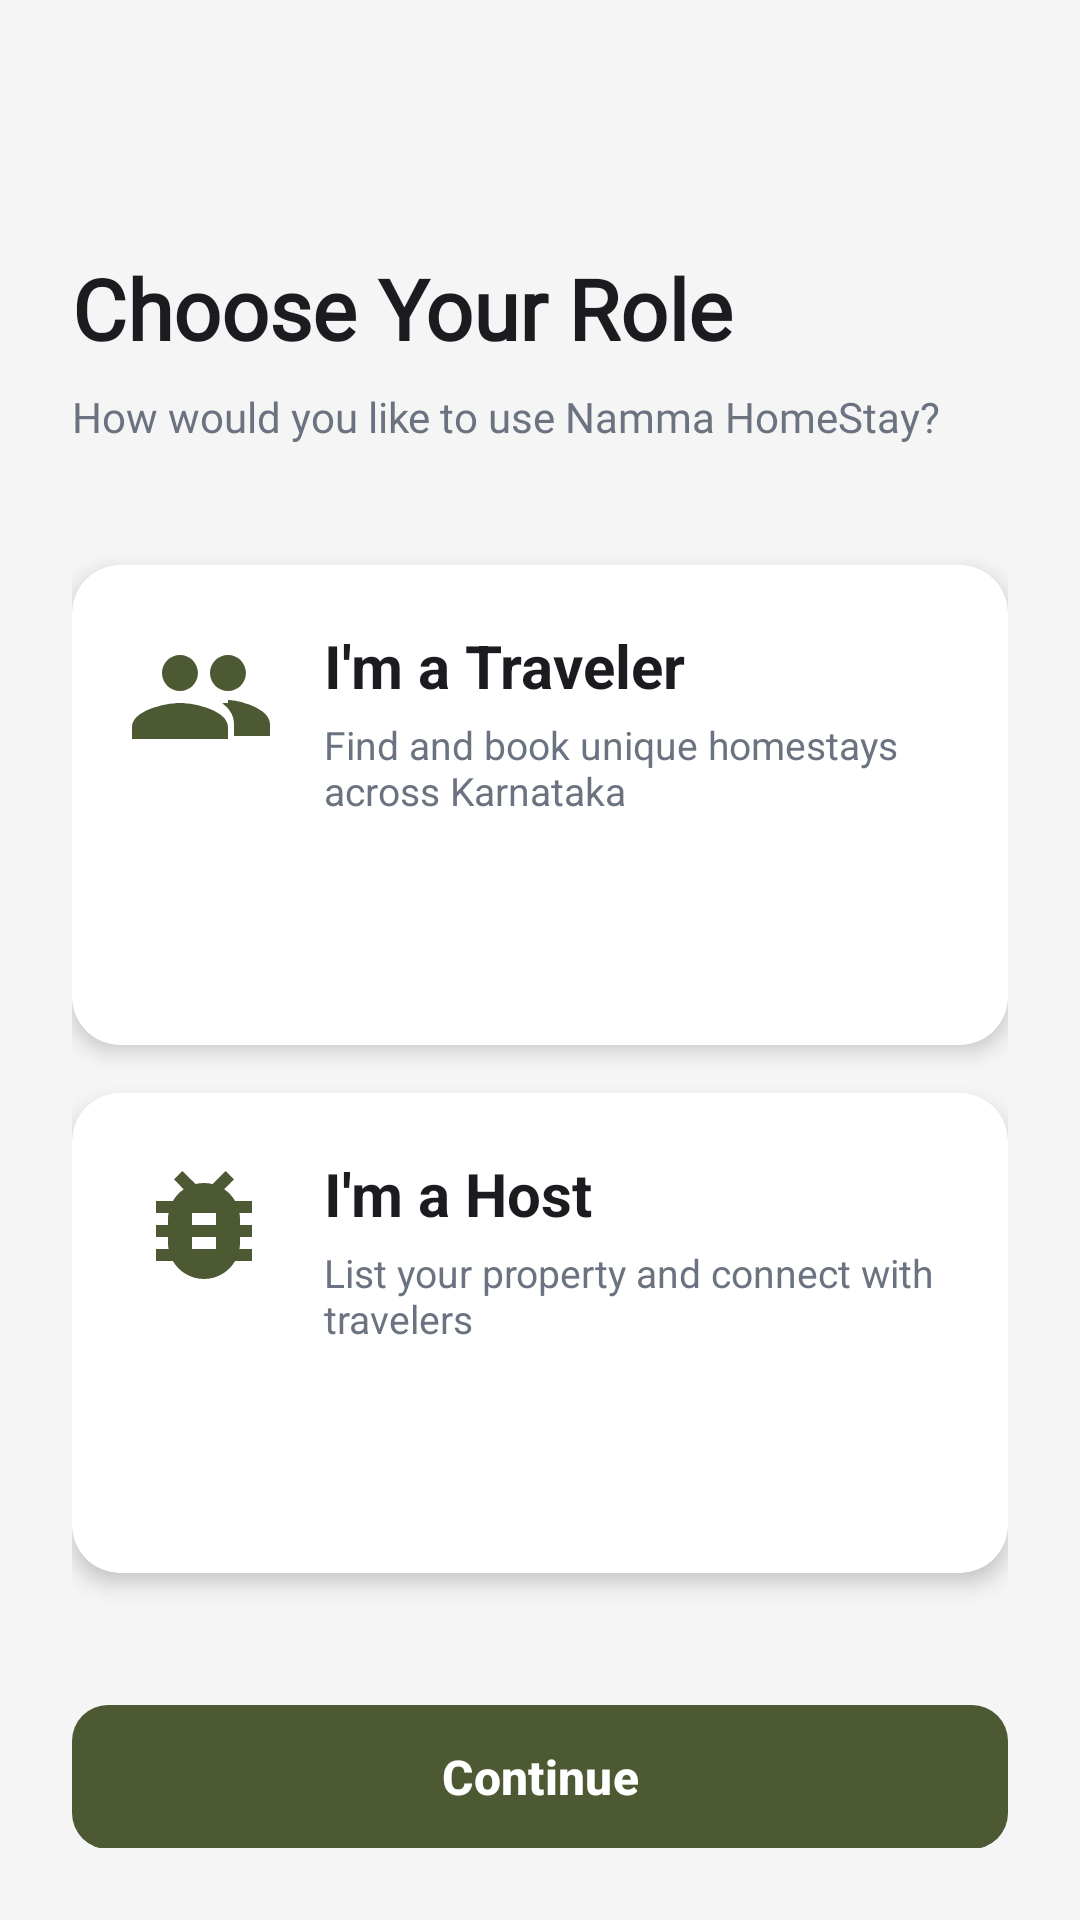

Named icons in this screenshot (1080px x 1920px) and their bounding boxes, (x1, y1, x2, y2):
guest: (132, 655, 270, 739)
